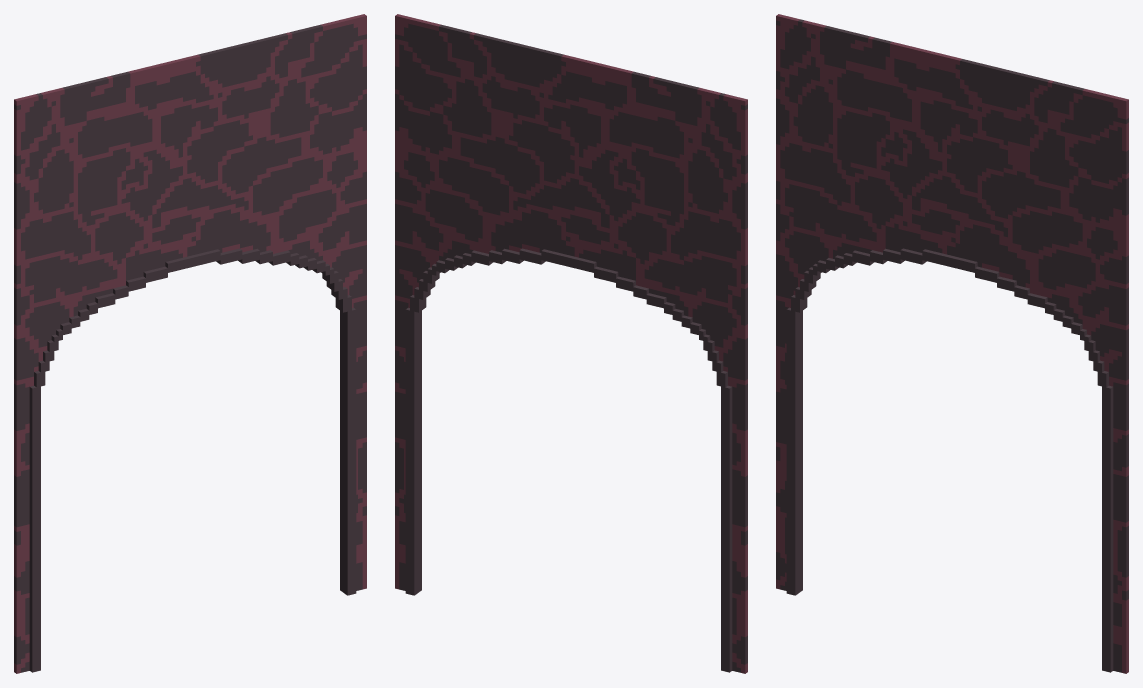
Rendered from ParedRojaConMarco.obj.
3 views of the same model, side by side, from view 1: azimuth 30°, elevation 25°; view 2: azimuth 150°, elevation 25°; view 3: azimuth 330°, elevation 25° (orthographic).
Bounding box in the file's own units: 8 × 12.5 × 0.3.
1 material, 1 textured.
